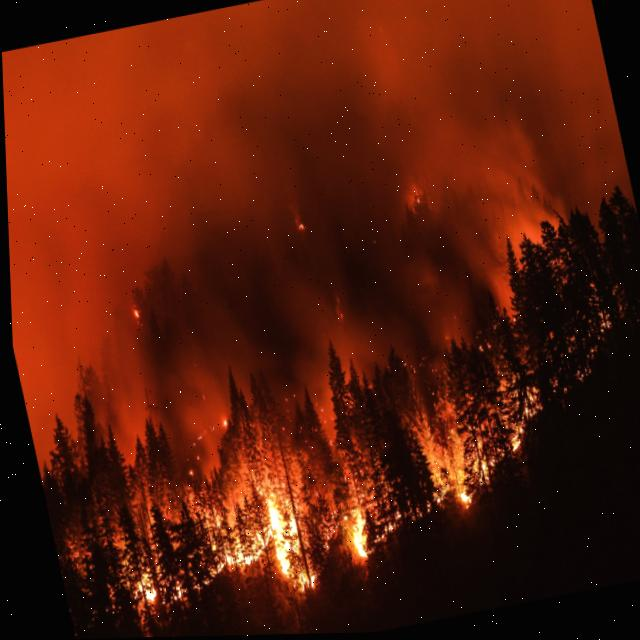fire: (257, 497, 306, 582)
smoke: (2, 0, 634, 481)
